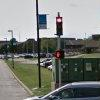Traffic light: (51, 11, 75, 68)
